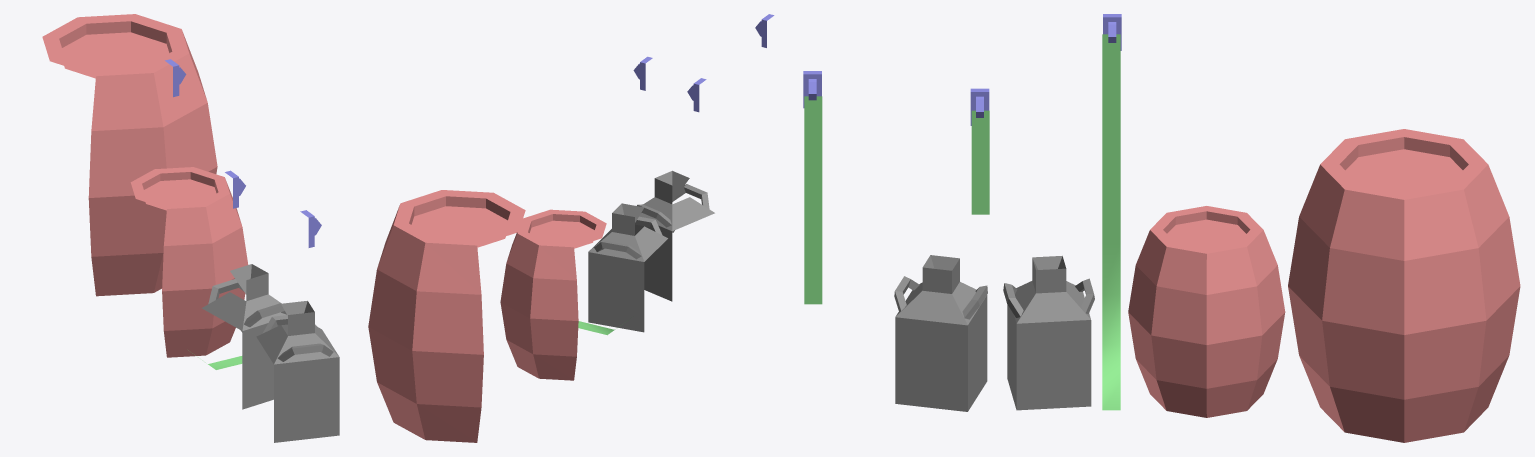
Rendered from interior_B_orc_S__Orc_WH_in_04.gltf.
3 renders of one model, left to right at view 1: azimuth 30°, elevation 25°; view 2: azimuth 150°, elevation 25°; view 3: azimuth 270°, elevation 25°, orthographic. The views are drawn at different scales.
Visible parts, largest first — view 1: Orc_WH_in_04; view 2: Orc_WH_in_04; view 3: Orc_WH_in_04.
Part boxes in pixels (x1,y1,x2,y2): Orc_WH_in_04: [42, 14, 339, 442]; Orc_WH_in_04: [368, 14, 774, 442]; Orc_WH_in_04: [803, 14, 1520, 442].
Size of the model in its own units: 0.4093 by 0.7281 by 1.35.
